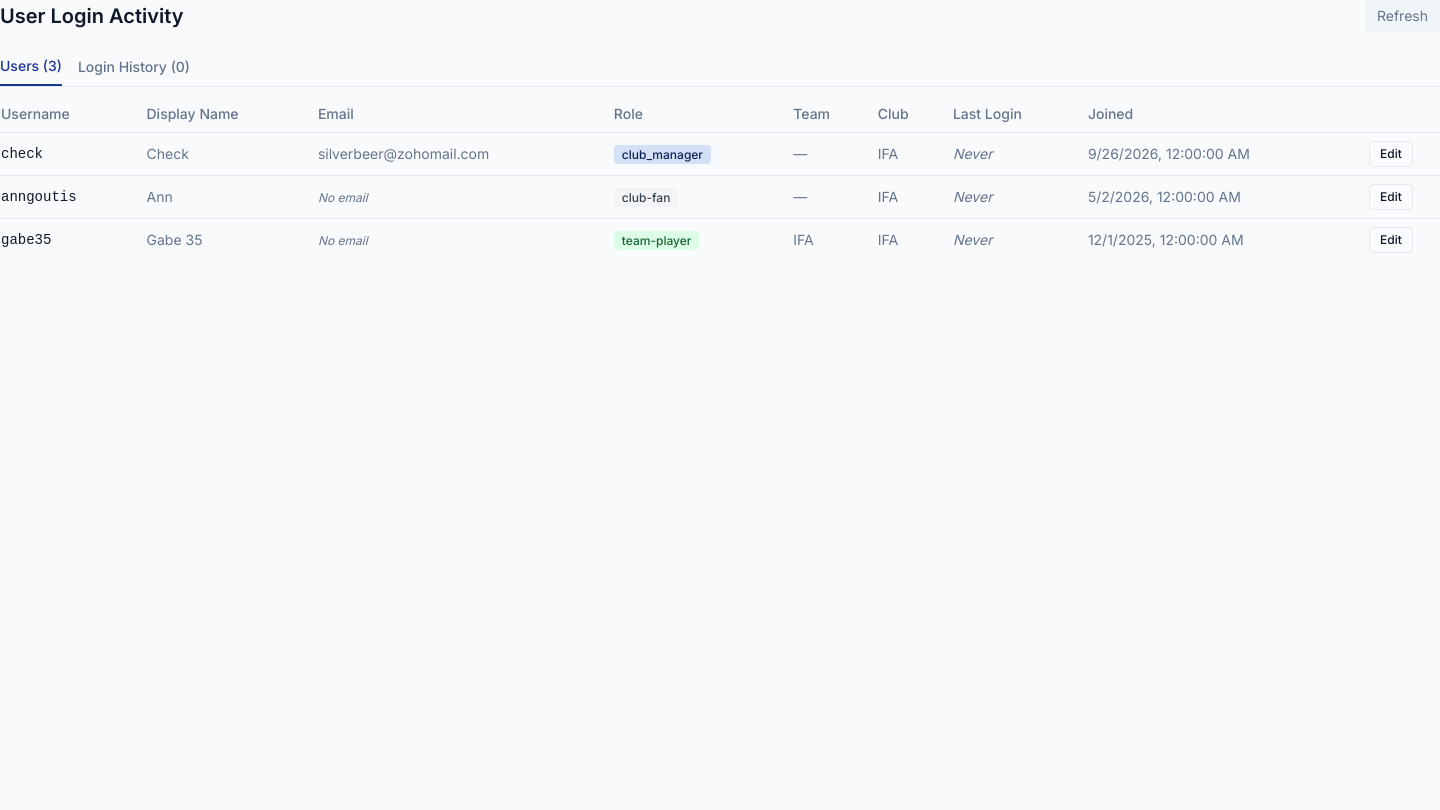
Test case: AdminUsers — deleting an account (SB-1132) › offers deletion from the editor
The width and height of the screenshot is (1440, 810).
What coordinates should you click on to do the following:
click the button "Edit" in the row of "anngoutis"
I would click on:
 (1391, 197)
Its box is [1369, 184, 1413, 210].
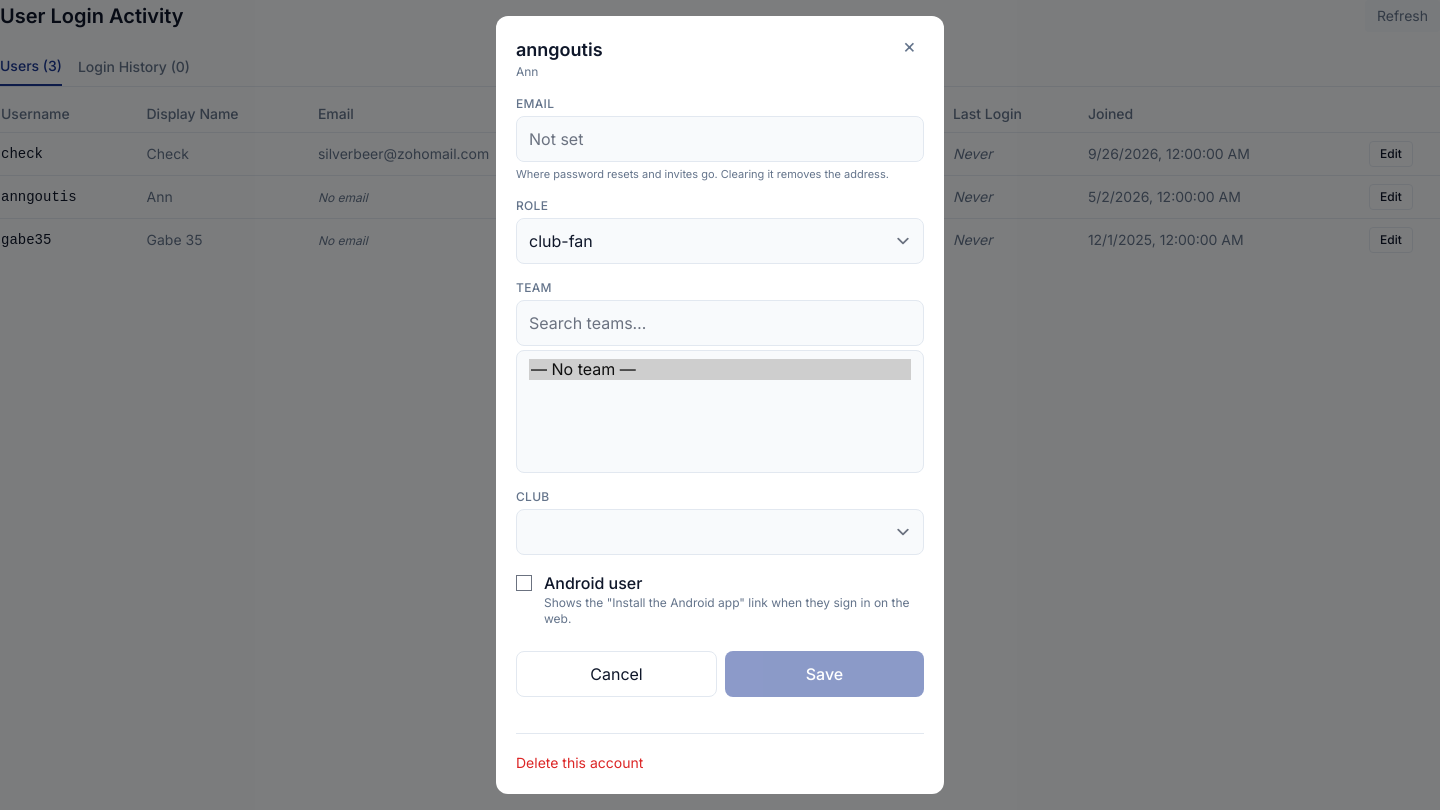
Expected: the button with test id "delete-user" is shown, [516, 753, 643, 773]
